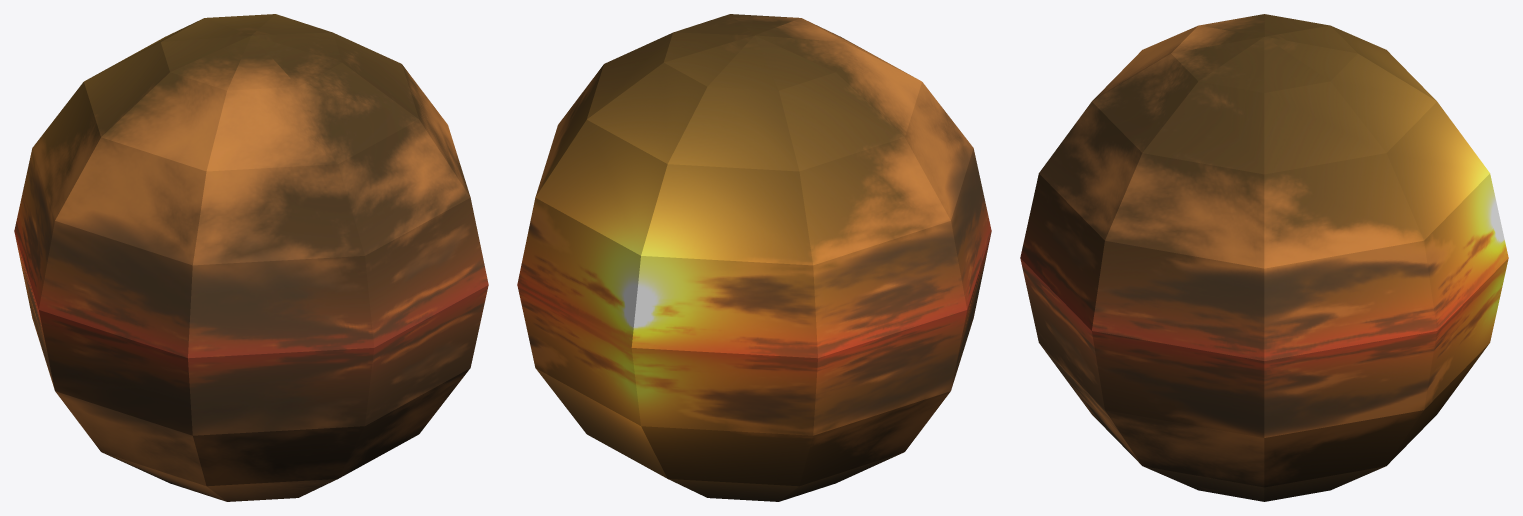
File: stage03.glb
3 renders of one model, left to right at view 1: azimuth 30°, elevation 25°; view 2: azimuth 150°, elevation 25°; view 3: azimuth 270°, elevation 25°, orthographic.
Visible parts, largest first — view 1: Sphere; view 2: Sphere; view 3: Sphere.
Boxes of the visible parts, <box> form: Sphere: <box>14,14,488,501</box>; Sphere: <box>517,14,991,501</box>; Sphere: <box>1020,14,1508,501</box>.
Bounding box in the file's own units: 400 × 400 × 400.
Materials: 10 (1 with a texture image).
